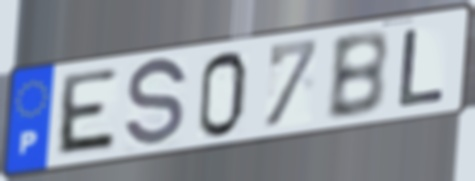0: (196, 48, 252, 140)
7: (265, 36, 320, 133)
B: (324, 27, 391, 124)
E: (52, 65, 121, 159)
L: (395, 26, 449, 110)
S: (121, 54, 190, 153)
